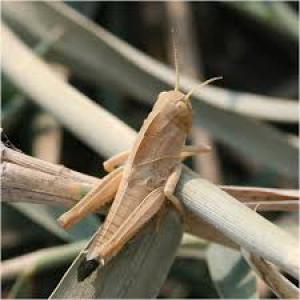locust: (60, 52, 222, 274)
